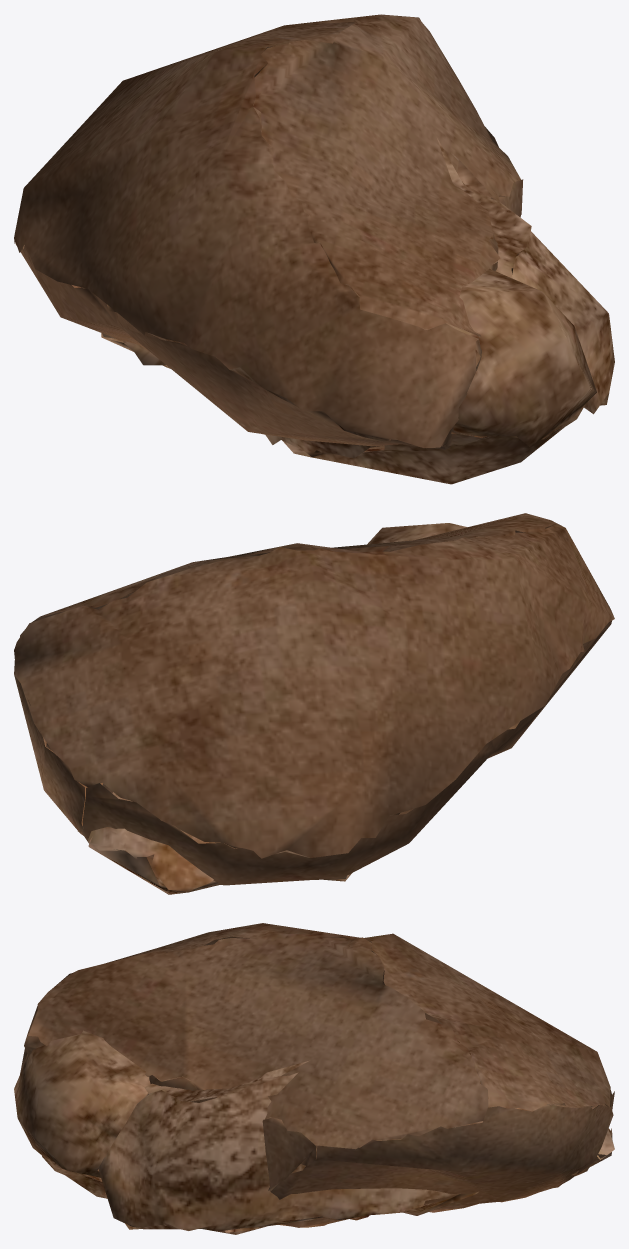
File: pebbles.glb
3 renders of one model, top to bottom at view 1: azimuth 30°, elevation 25°; view 2: azimuth 150°, elevation 25°; view 3: azimuth 270°, elevation 25°, orthographic. The views are drawn at different scales.
Visible parts, largest first — view 1: oxide-pebbles-a, oxide-pebbles-b; view 2: oxide-pebbles-a, oxide-pebbles-b; view 3: oxide-pebbles-a, oxide-pebbles-b.
Part boxes in pixels (box(x1,y1,x2,y2)): oxide-pebbles-a: box(14, 14, 523, 449); oxide-pebbles-b: box(101, 64, 614, 484); oxide-pebbles-a: box(14, 513, 614, 885); oxide-pebbles-b: box(78, 523, 483, 894); oxide-pebbles-a: box(20, 923, 614, 1227); oxide-pebbles-b: box(14, 1018, 614, 1234).
Size of the model in its own units: 1.3 by 0.9042 by 2.
Materials: 1 (1 with a texture image).
